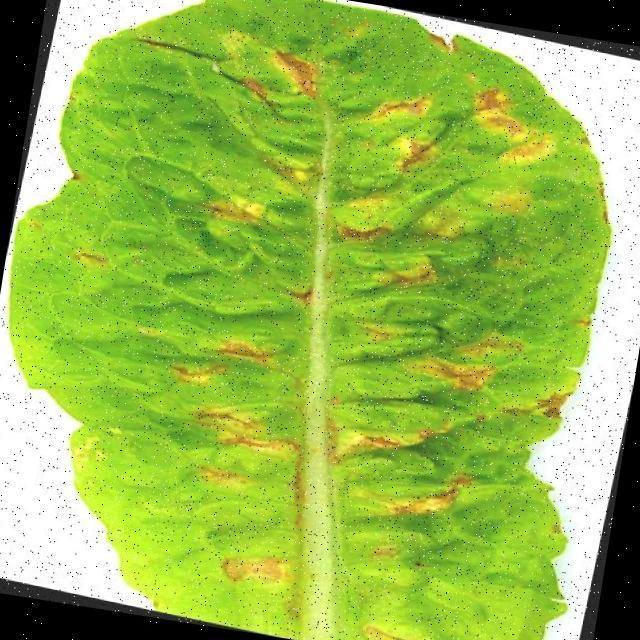Downy_mildew_on_lettuce: (119, 0, 629, 640)
